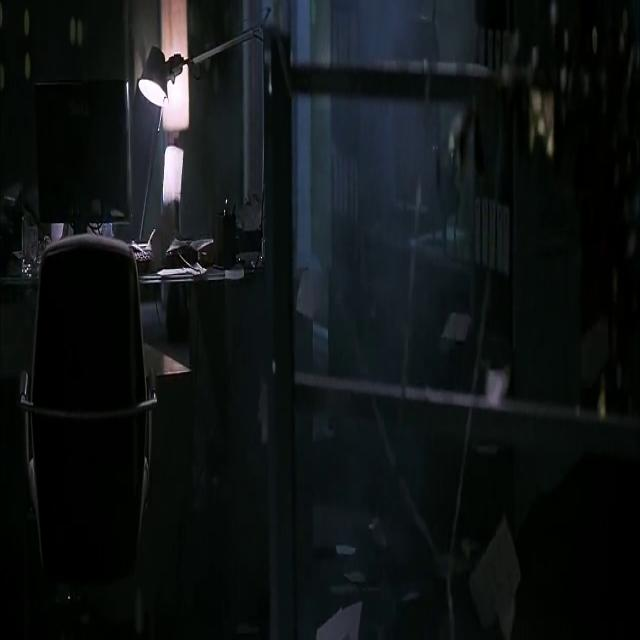Table: (0, 208, 278, 482)
chair: (14, 203, 154, 632)
